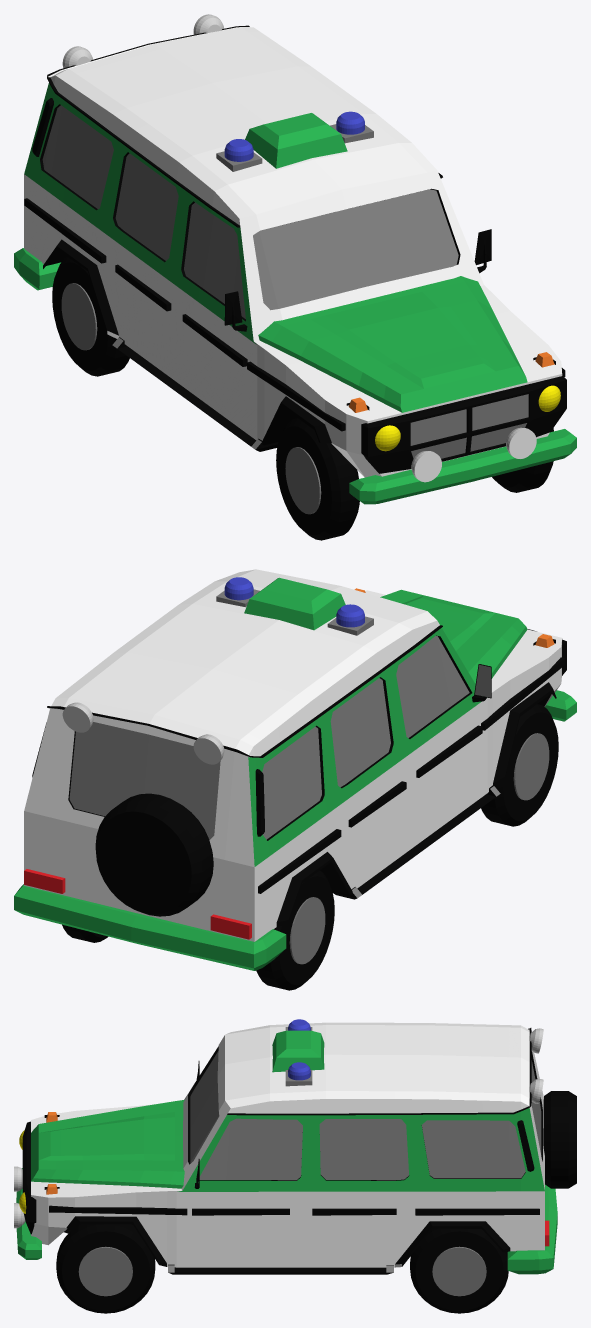
Rendered from Авто 11.fbx.
3 renders of one model, top to bottom at view 1: azimuth 30°, elevation 25°; view 2: azimuth 150°, elevation 25°; view 3: azimuth 270°, elevation 25°, orthographic. The views are drawn at different scales.
Visible parts, largest first — view 1: Cube, Cylinder.003, Cylinder.004, Cylinder.001; view 2: Cube, Cylinder, Cylinder.003, Cylinder.004; view 3: Cube, Cylinder.001, Cylinder.002, Cylinder.
Part boxes in pixels (x1,y1,x2,y2): Cube: [14, 14, 576, 504]; Cylinder.003: [276, 418, 359, 540]; Cylinder.004: [52, 257, 129, 376]; Cylinder.001: [492, 428, 553, 492]; Cube: [14, 569, 576, 970]; Cylinder: [95, 793, 213, 916]; Cylinder.003: [481, 704, 558, 826]; Cylinder.004: [256, 870, 334, 990]; Cube: [14, 1019, 557, 1274]; Cylinder.001: [56, 1224, 155, 1313]; Cylinder.002: [410, 1228, 508, 1313]; Cylinder: [543, 1091, 576, 1188].
Bounding box in the file's own units: 112 × 119 × 260.
